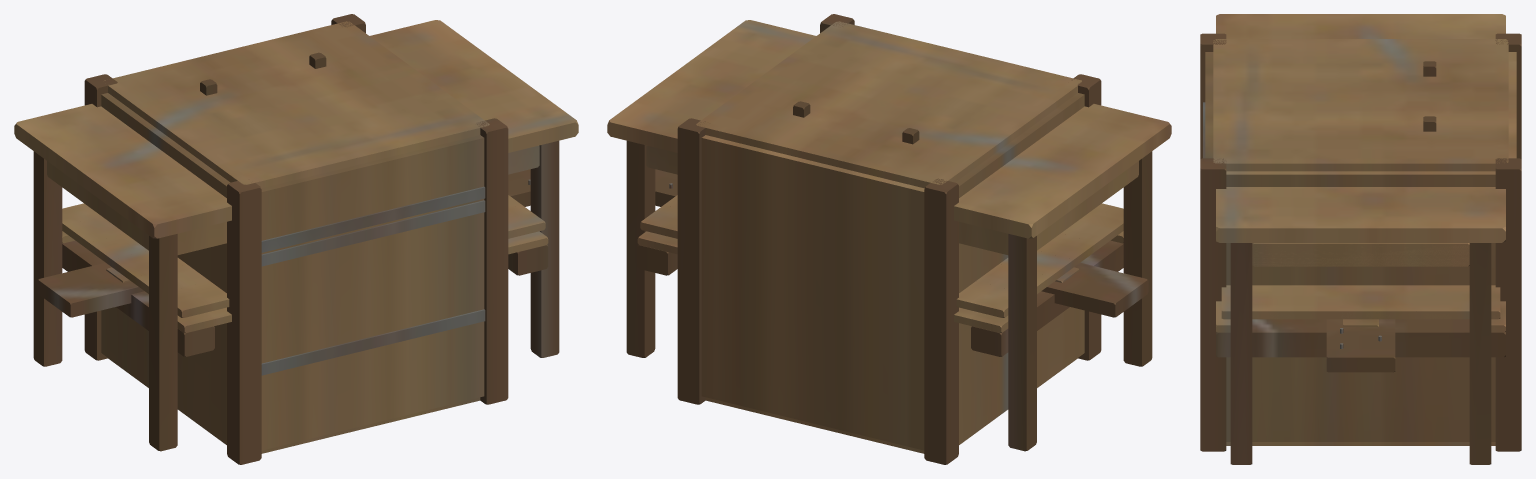
Rendered from propsWood.glb.
3 views of the same model, side by side, from view 1: azimuth 30°, elevation 25°; view 2: azimuth 150°, elevation 25°; view 3: azimuth 270°, elevation 25° (orthographic). The views are drawn at different scales.
Visible parts, largest first — view 1: woodenCrate_lod0_v0, table_lod0_v0, chunk_5 (×2), pallet_lod0_v0, woodenCrate_lod0_v2, chunk_4 (×2), woodPlank_lod0_v0, chunk_7, chunk_6 (×2), chunk_3, pallet_lod0_v1, chunk_1 (+3 smaller); view 2: woodenCrate_lod0_v0, table_lod0_v0, chunk_0 (×2), pallet_lod0_v0, woodPlank_lod0_v0, chunk_1 (×2), chunk_4, chunk_2 (×2), chunk_3, pallet_lod0_v1, pallet_lod1_v0, chunk_7 (+2 smaller); view 3: woodenCrate_lod0_v0, table_lod0_v0, pallet_lod0_v0, chunk_3 (×2), woodPlank_lod0_v0, chunk_1 (×2), pallet_lod0_v1, chunk_4, chunk_2 (×2), chunk_5, chunk_6, pallet_lod1_v0 (+2 smaller).
Boxes of the visible parts, box(x1,y1,x2,y2) form: woodenCrate_lod0_v0: box(85, 14, 507, 464); table_lod0_v0: box(14, 20, 578, 451); chunk_5 (×2): box(118, 127, 547, 404); pallet_lod0_v0: box(62, 209, 548, 356); woodenCrate_lod0_v2: box(261, 186, 485, 375); chunk_4 (×2): box(108, 86, 541, 357); woodPlank_lod0_v0: box(37, 169, 530, 317); chunk_7: box(227, 184, 239, 464); chunk_6 (×2): box(140, 195, 521, 291); chunk_3: box(14, 123, 578, 237); pallet_lod0_v1: box(64, 209, 543, 316); chunk_1: box(62, 203, 124, 245); woodenCrate_lod0_v0: box(677, 14, 1100, 464); table_lod0_v0: box(607, 20, 1171, 451); chunk_0 (×2): box(637, 184, 1001, 464); pallet_lod0_v0: box(637, 203, 1123, 356); woodPlank_lod0_v0: box(655, 169, 1148, 317); chunk_1 (×2): box(641, 135, 1043, 310); chunk_4: box(705, 86, 1077, 188); chunk_2 (×2): box(644, 145, 924, 453); chunk_3: box(607, 123, 1171, 237); pallet_lod0_v1: box(659, 204, 1123, 317); pallet_lod1_v0: box(658, 204, 1123, 316); chunk_7: box(1089, 80, 1101, 359); woodenCrate_lod0_v0: box(1200, 33, 1521, 451); table_lod0_v0: box(1216, 14, 1505, 464); pallet_lod0_v0: box(1216, 285, 1505, 357); chunk_3 (×2): box(1216, 171, 1505, 266); woodPlank_lod0_v0: box(1326, 319, 1395, 372); chunk_1 (×2): box(1414, 52, 1516, 319); pallet_lod0_v1: box(1221, 285, 1498, 319); chunk_4: box(1226, 163, 1495, 171); chunk_2 (×2): box(1226, 285, 1495, 445); chunk_5: box(1216, 285, 1355, 332); chunk_6: box(1270, 285, 1307, 319); pallet_lod1_v0: box(1222, 285, 1499, 319).
Size of what is drawn, in the model's own units: 1.6 by 0.92 by 0.887.
Materials: 1 (1 with a texture image).
